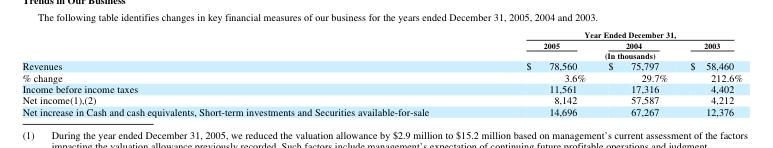table: (21, 28, 741, 117)
table column: (21, 28, 476, 117), (476, 28, 596, 117), (596, 28, 678, 117), (678, 28, 741, 117)
table column header: (21, 28, 741, 59)
table row: (21, 59, 741, 71), (21, 93, 741, 105), (21, 105, 741, 117), (21, 28, 741, 39), (21, 39, 741, 50), (21, 71, 741, 82), (21, 82, 741, 93), (21, 50, 741, 59)
table spanning cell: (476, 28, 741, 39), (476, 50, 741, 59)
